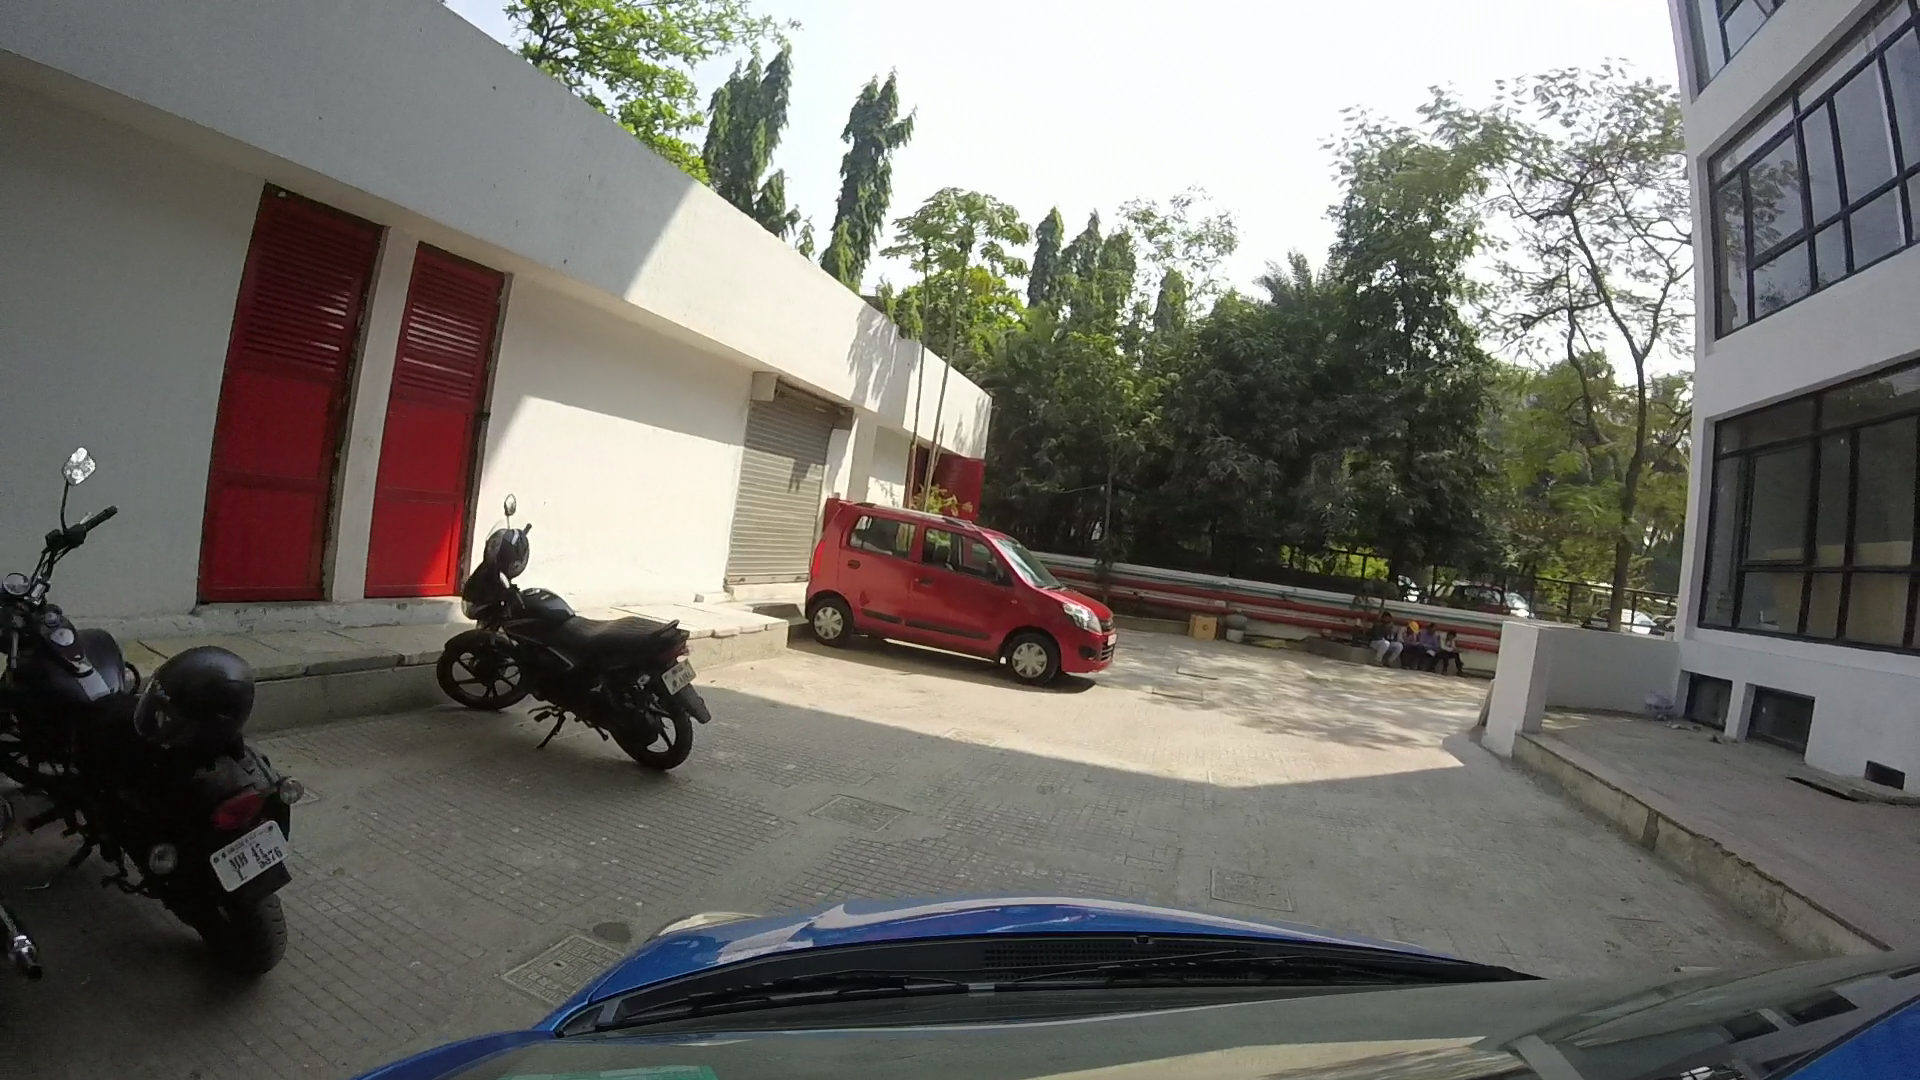bike/scooter: (11, 450, 375, 971), (433, 477, 738, 775)
car: (796, 462, 1122, 694)
